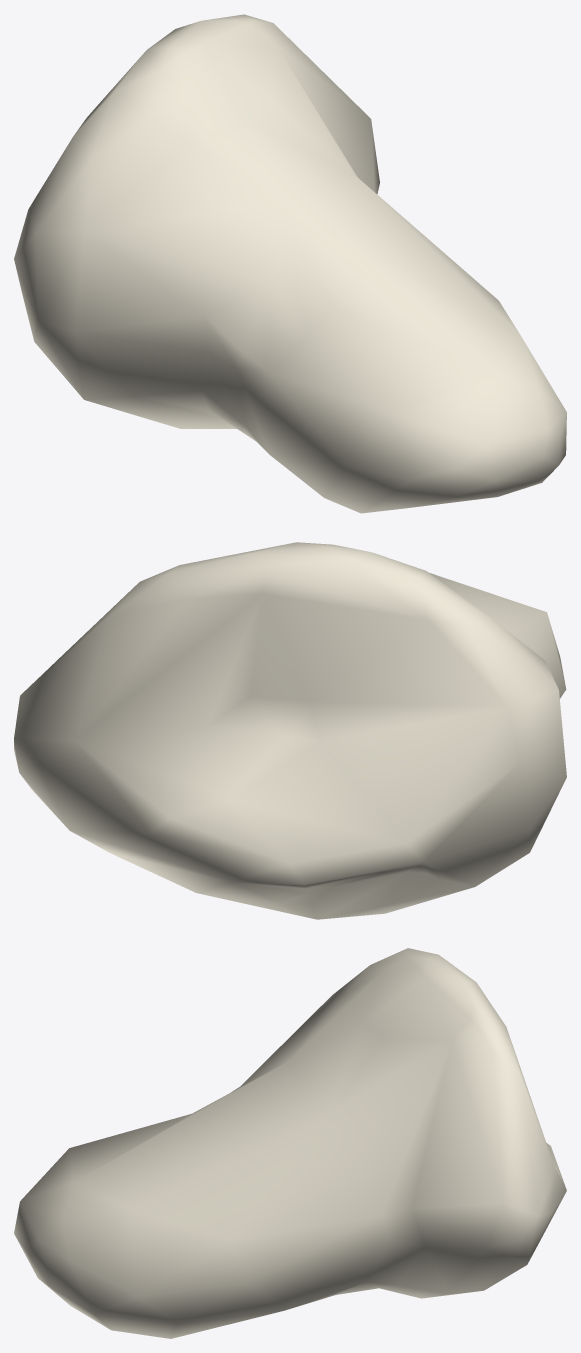
The picture shows the model from 3 angles, top to bottom: view 1: azimuth 30°, elevation 25°; view 2: azimuth 150°, elevation 25°; view 3: azimuth 270°, elevation 25°; orthographic projection. The views are drawn at different scales.
Visible parts, largest first — view 1: ZA_707a07d23c678efb; view 2: ZA_707a07d23c678efb; view 3: ZA_707a07d23c678efb.
Boxes of the visible parts, bbox=[...] form: ZA_707a07d23c678efb: bbox=[14, 14, 566, 513]; ZA_707a07d23c678efb: bbox=[14, 542, 566, 919]; ZA_707a07d23c678efb: bbox=[14, 948, 566, 1338].
Bounding box in the file's own units: 0.00879 × 0.00733 × 0.0117.
